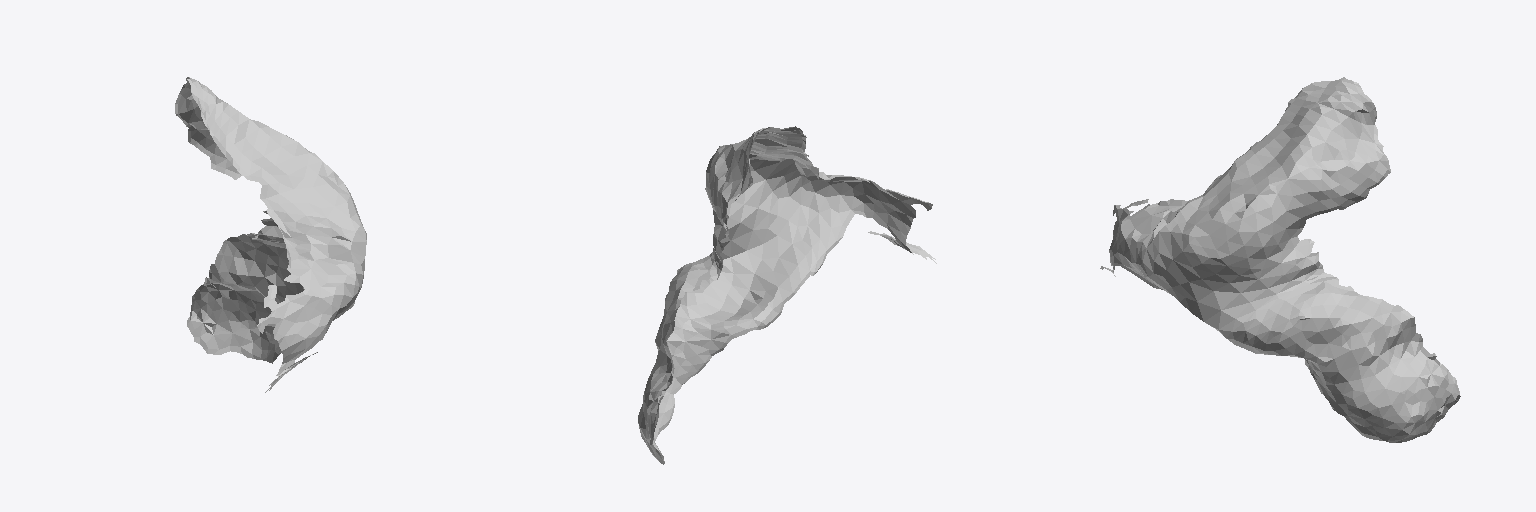
Rendered from L_insular_short.obj.
The picture shows the model from 3 angles: view 1: azimuth 30°, elevation 25°; view 2: azimuth 150°, elevation 25°; view 3: azimuth 270°, elevation 25°; orthographic projection.
Visible parts, largest first — view 1: L_insular_short_R_insular_short; view 2: L_insular_short_R_insular_short; view 3: L_insular_short_R_insular_short.
Boxes of the visible parts, x1,y1,x2,y2 form: L_insular_short_R_insular_short: [175, 77, 366, 392]; L_insular_short_R_insular_short: [638, 126, 936, 464]; L_insular_short_R_insular_short: [1100, 77, 1460, 442].
Bounding box in the file's own units: 59.47 × 112 × 113.